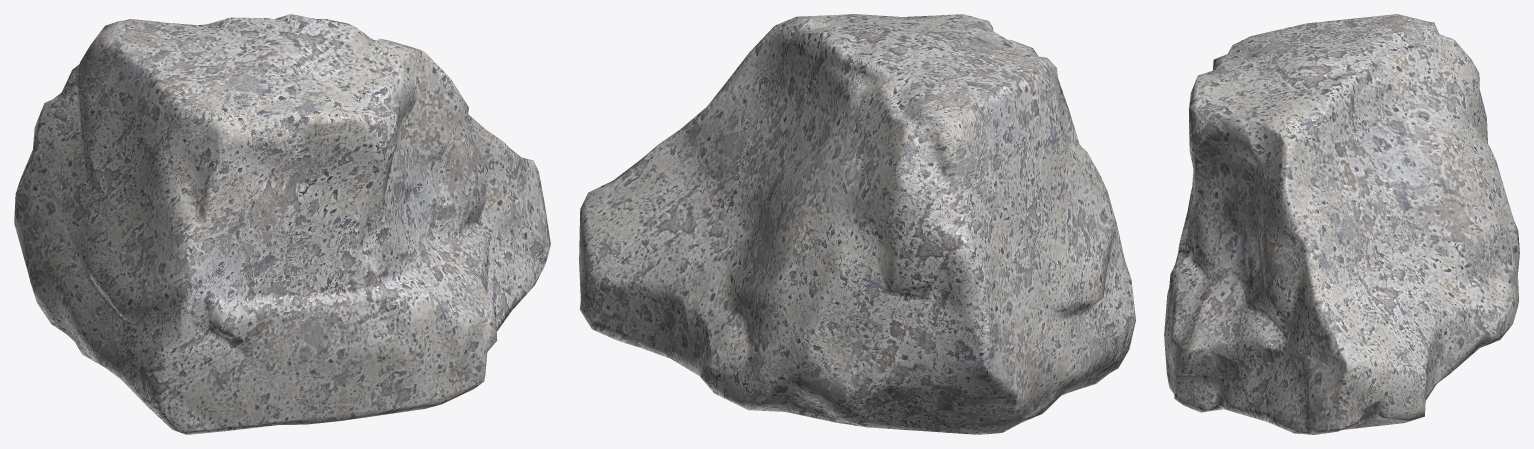
File: SM_Large_Rock_D.fbx
The picture shows the model from 3 angles, left to right: view 1: azimuth 30°, elevation 25°; view 2: azimuth 150°, elevation 25°; view 3: azimuth 270°, elevation 25°; orthographic projection. The views are drawn at different scales.
Visible parts, largest first — view 1: SM_Large_Rock_D_LOD0; view 2: SM_Large_Rock_D_LOD0; view 3: SM_Large_Rock_D_LOD0.
Part boxes in pixels (<box>): SM_Large_Rock_D_LOD0: <box>14,14,550,434</box>; SM_Large_Rock_D_LOD0: <box>579,14,1135,434</box>; SM_Large_Rock_D_LOD0: <box>1164,14,1519,434</box>.
Bounding box in the file's own units: 632 × 471 × 437.
1 material, 1 textured.
